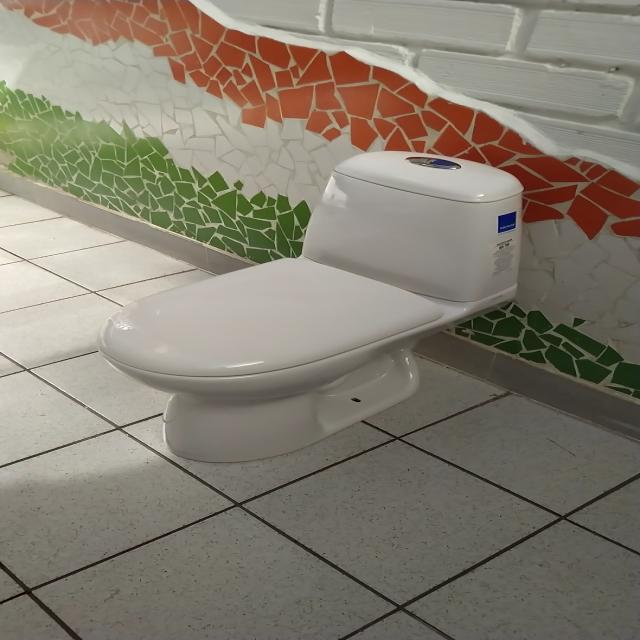toilet: (96, 150, 524, 463)
